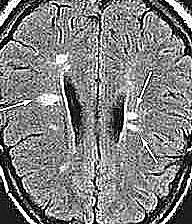Normal_Brain: (1, 1, 191, 224)
